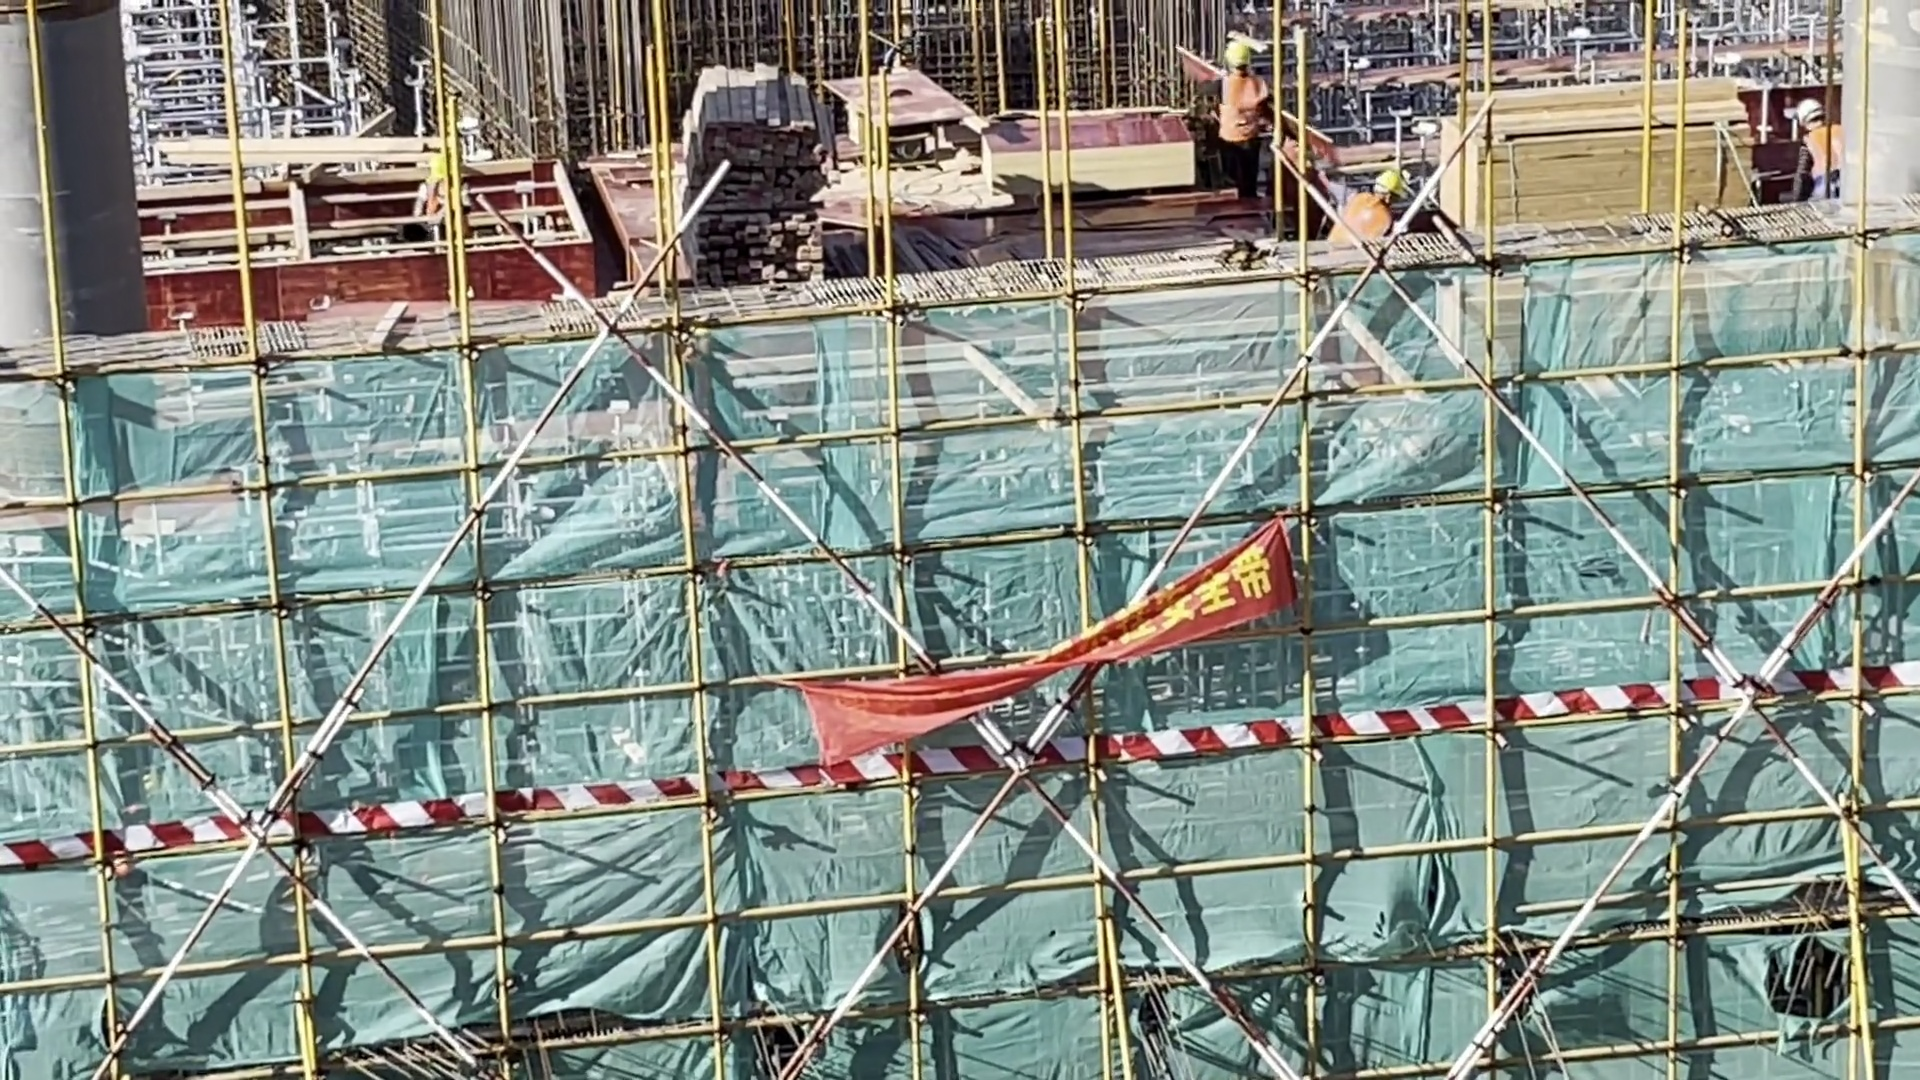helmet: (1370, 157, 1403, 206), (1792, 91, 1828, 131), (1218, 42, 1258, 74)
person: (1195, 31, 1271, 222), (1777, 94, 1860, 212), (1314, 157, 1410, 246)
slogan: (765, 493, 1320, 790)
vest: (1326, 178, 1418, 250), (1204, 76, 1280, 143), (1792, 127, 1848, 198)
wood: (1429, 68, 1774, 252), (669, 48, 845, 294)
